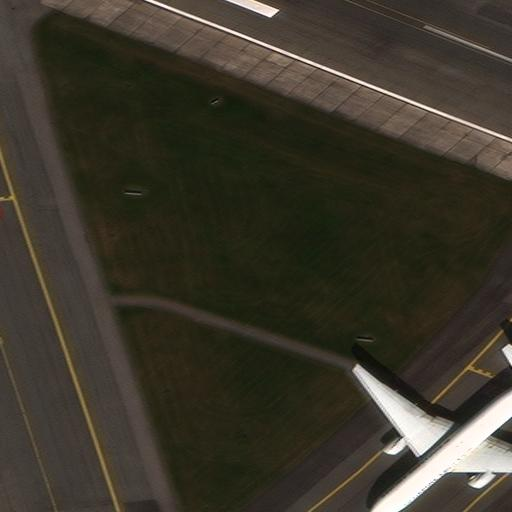Large Civil Transport: (351, 364, 512, 512)
